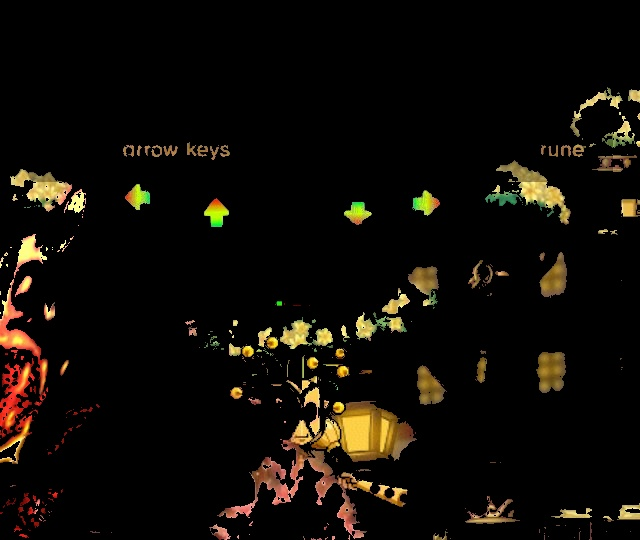down: (336, 196, 379, 232)
left: (115, 178, 159, 218)
right: (406, 183, 446, 225)
up: (200, 191, 241, 234)
